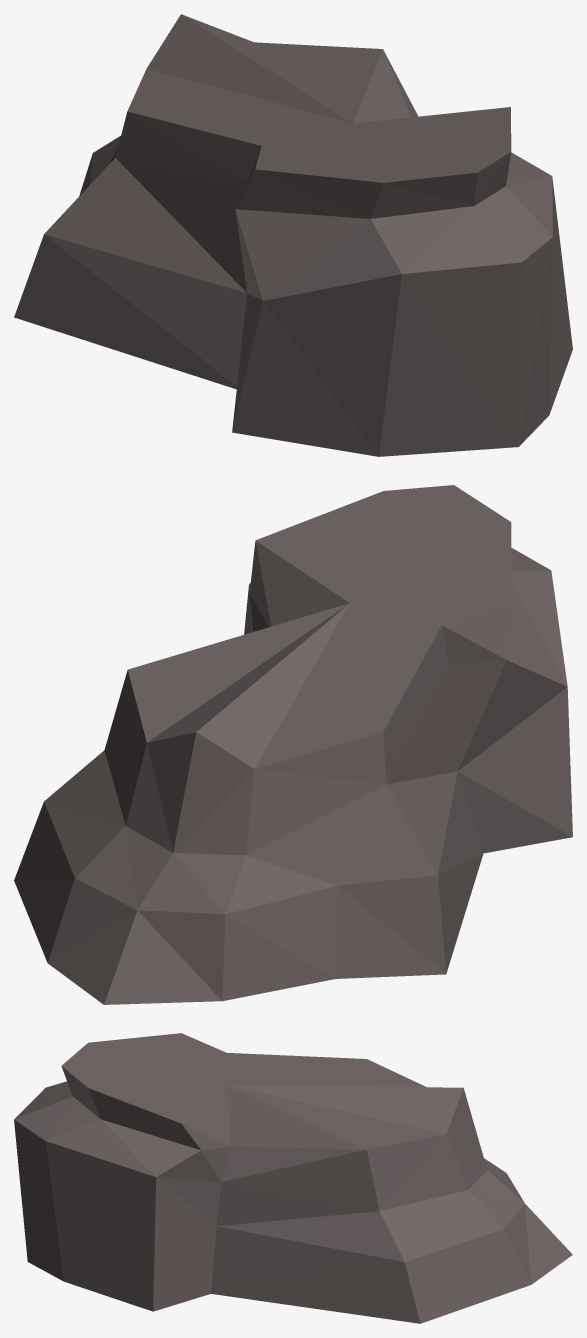
The model's file is _coal_1.fbx.
3 renders of one model, top to bottom at view 1: azimuth 30°, elevation 25°; view 2: azimuth 150°, elevation 25°; view 3: azimuth 270°, elevation 25°, orthographic. The views are drawn at different scales.
Parts seen in each view (by area): view 1: coal_1; view 2: coal_1; view 3: coal_1.
Boxes of the visible parts, box(x1,y1,x2,y2) form: coal_1: box(14, 14, 572, 456); coal_1: box(14, 485, 572, 1004); coal_1: box(14, 1033, 572, 1323).
Size of the model in its own units: 13.87 by 8.24 by 22.
